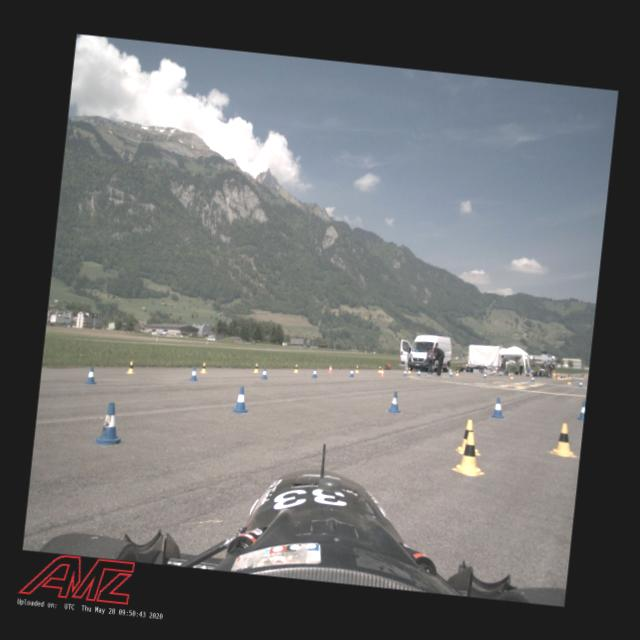blue_cone: (90, 400, 128, 448), (231, 385, 250, 414), (490, 397, 506, 419), (387, 390, 402, 413), (84, 366, 98, 384), (576, 400, 585, 420), (188, 366, 198, 382), (260, 368, 268, 380), (311, 367, 318, 378), (348, 368, 354, 377), (402, 368, 407, 376), (448, 370, 453, 377), (578, 379, 583, 386), (482, 372, 487, 378), (417, 369, 421, 376), (530, 375, 534, 382)
orange_cone: (327, 366, 333, 374), (380, 368, 384, 378)
yellow_cone: (451, 430, 488, 477), (550, 421, 580, 457), (455, 418, 483, 456), (126, 360, 136, 374), (200, 362, 208, 374), (253, 362, 259, 372), (293, 363, 299, 372), (354, 365, 359, 373), (407, 366, 411, 374), (509, 373, 514, 379), (455, 370, 459, 376), (567, 378, 571, 384), (377, 367, 381, 372)
